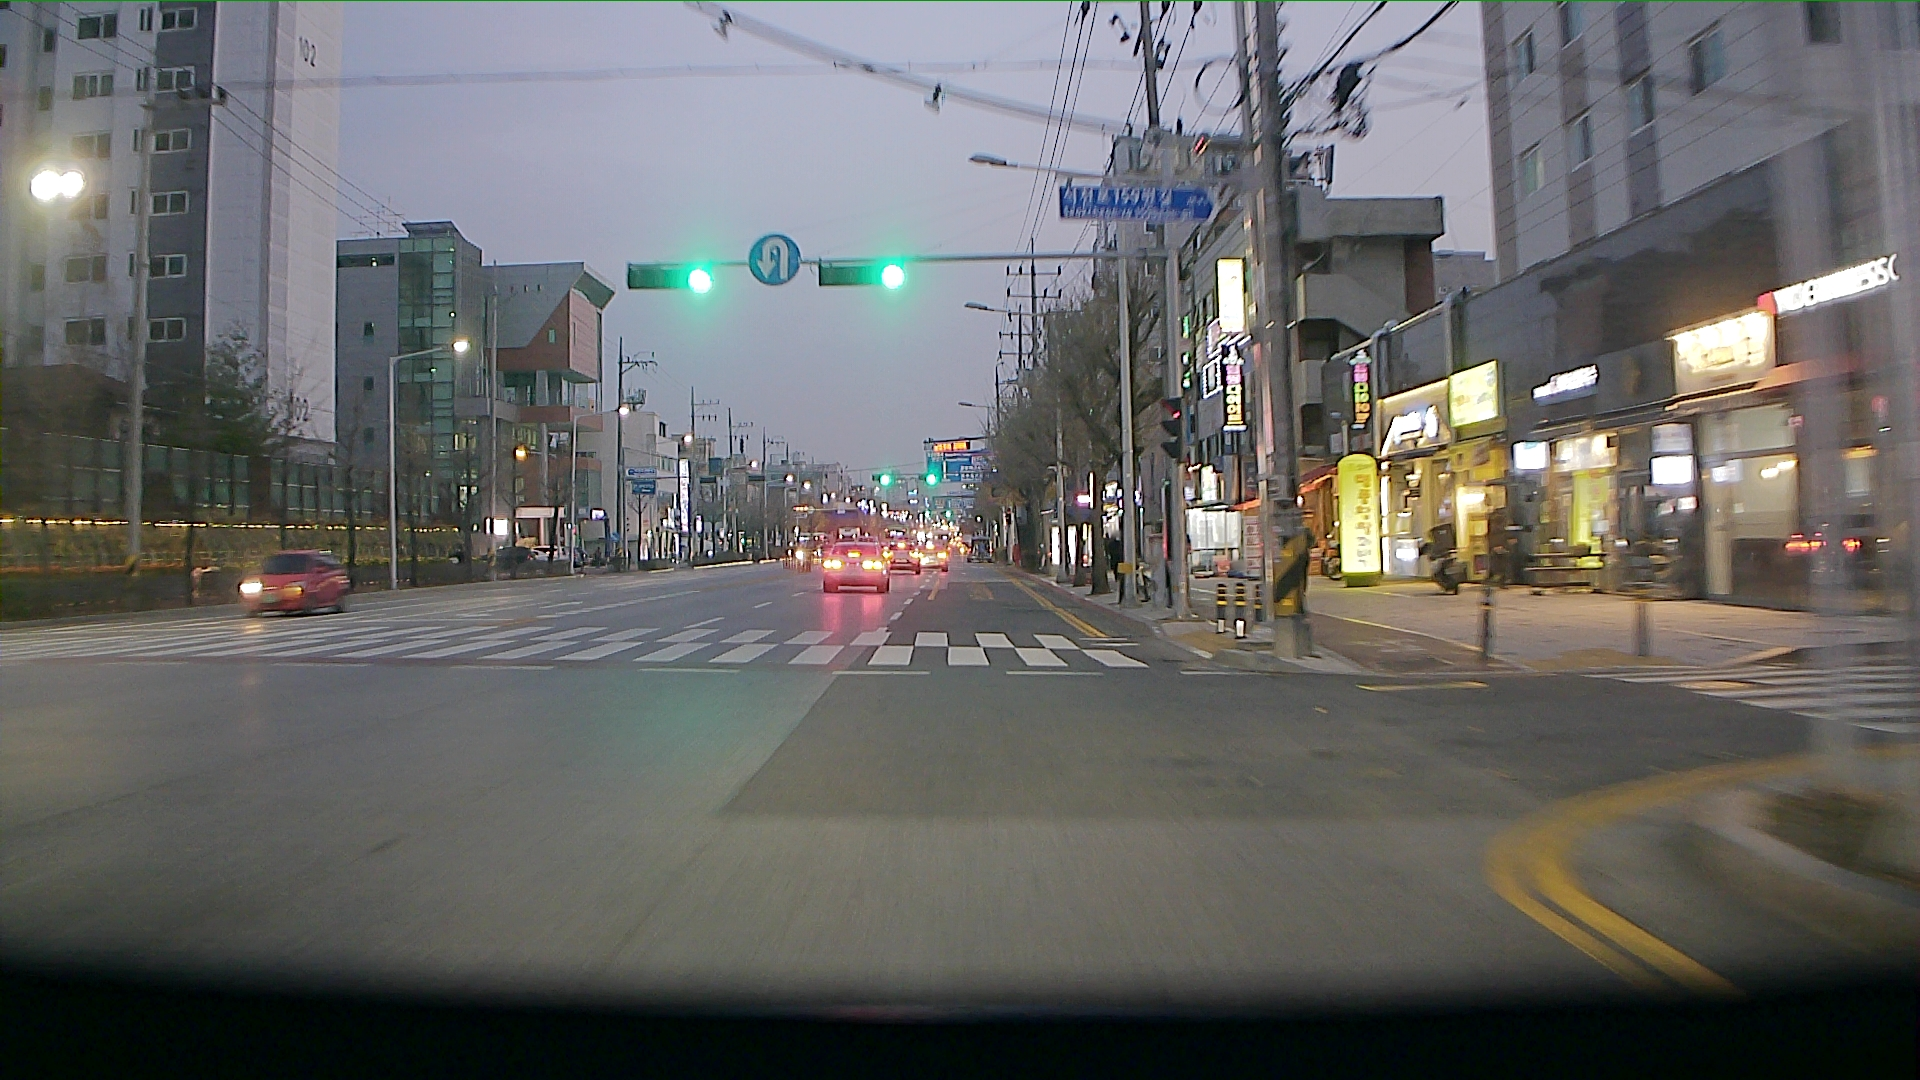trafficLight: (625, 258, 717, 298), (819, 257, 910, 290), (870, 471, 947, 487)
trafficSignCircle: (748, 232, 800, 289)
